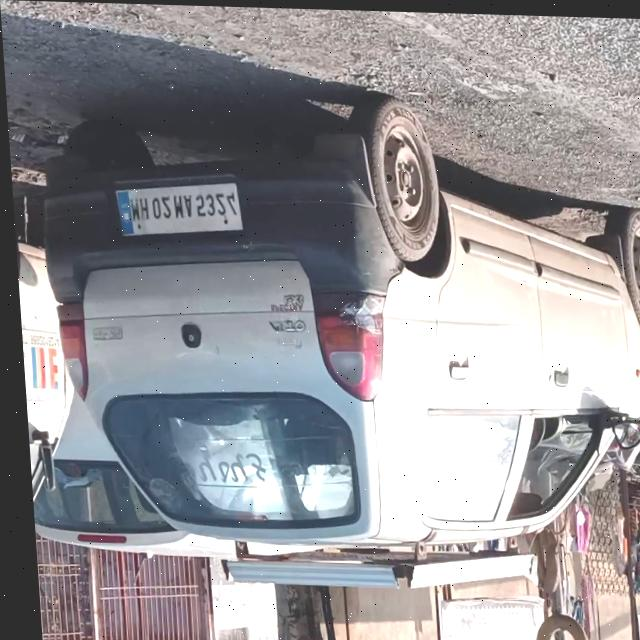plate: (109, 180, 241, 235)
